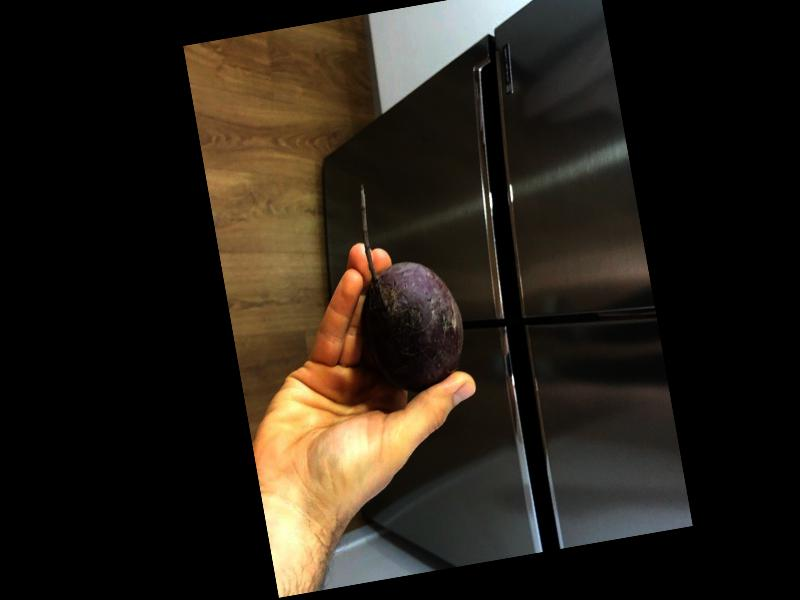Beet: (339, 170, 473, 397)
